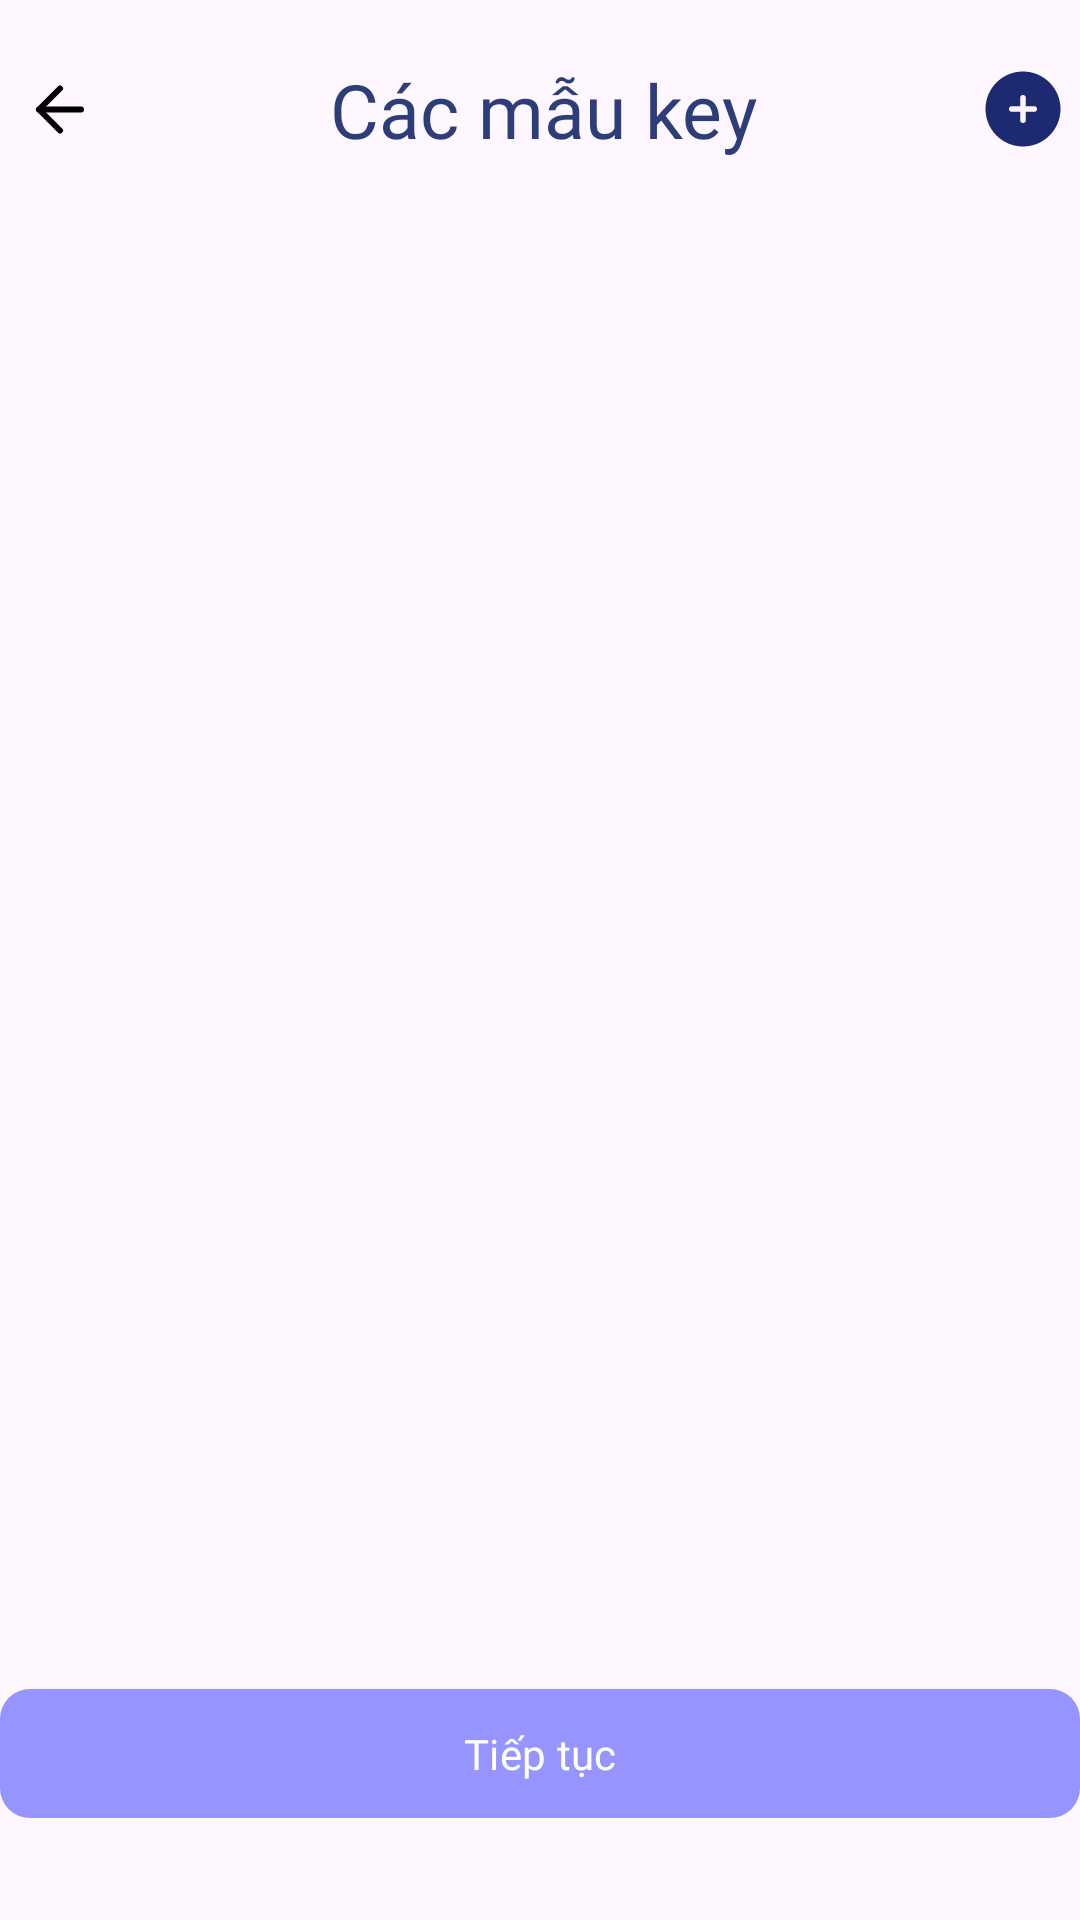

Where icons sit on this 1080×1920 app screen, as (x1, y1, x2, y2):
add: (985, 71, 1061, 147)
back: (35, 85, 84, 134)
